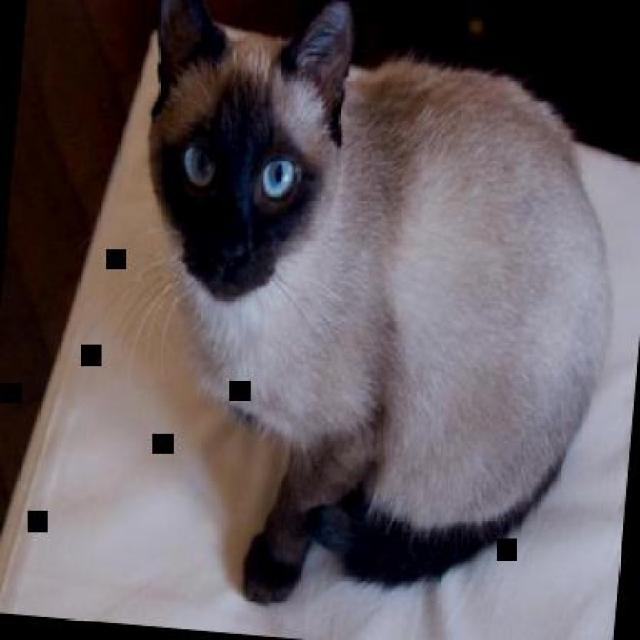cat: (103, 0, 637, 638)
